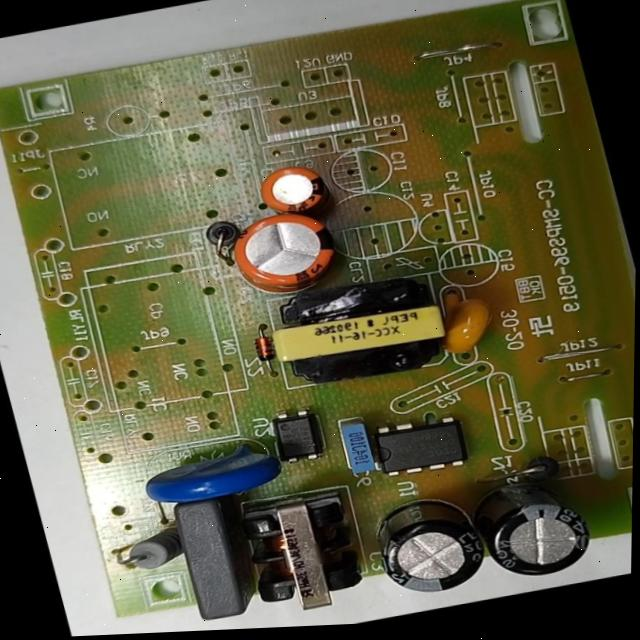Cap1: (217, 202, 349, 304)
Cap2: (242, 156, 344, 228)
Cap3: (359, 480, 509, 609)
Cap4: (453, 457, 604, 590)
MOSFET: (363, 402, 484, 487)
Mov: (128, 436, 287, 513)
Resistor: (110, 523, 196, 579)
Transformer: (258, 264, 455, 397), (225, 481, 381, 628)
